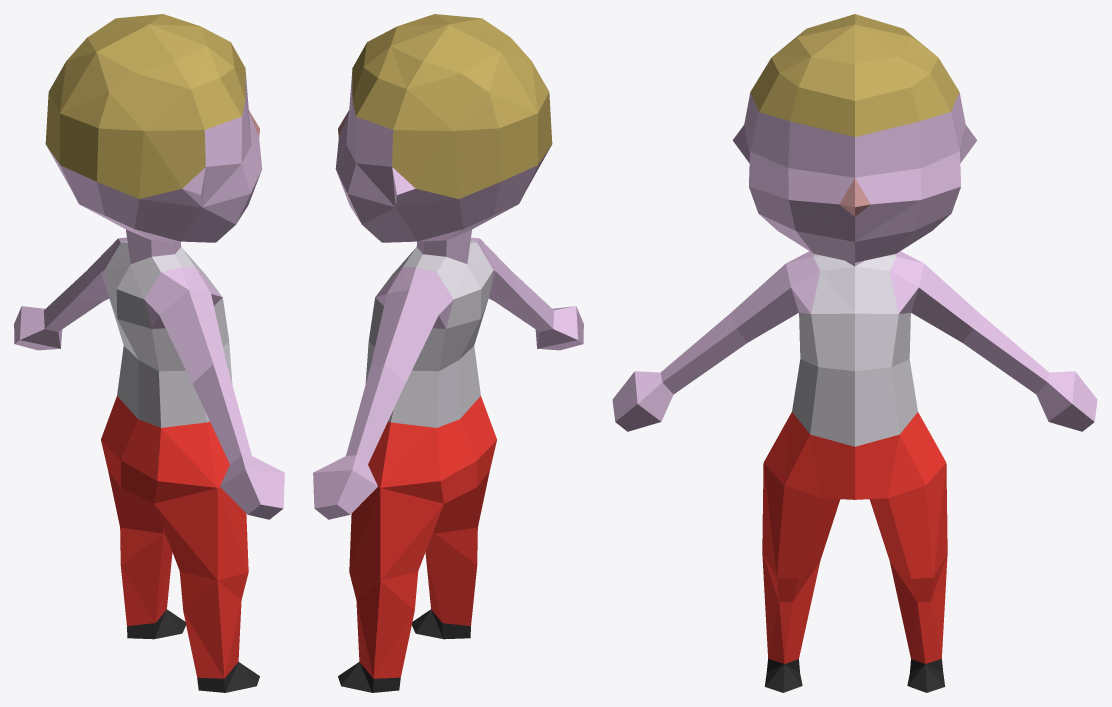
Rendered from Npc1.fbx.
The picture shows the model from 3 angles, left to right: view 1: azimuth 30°, elevation 25°; view 2: azimuth 150°, elevation 25°; view 3: azimuth 270°, elevation 25°; orthographic projection.
Visible parts, largest first — view 1: Human_Base.002; view 2: Human_Base.002; view 3: Human_Base.002.
Boxes of the visible parts, left/top/right/bottom form: Human_Base.002: left=14, top=14, right=284, bottom=692; Human_Base.002: left=313, top=14, right=583, bottom=692; Human_Base.002: left=612, top=14, right=1097, bottom=692.
Size of the model in its own units: 63.77 by 196 by 136.
